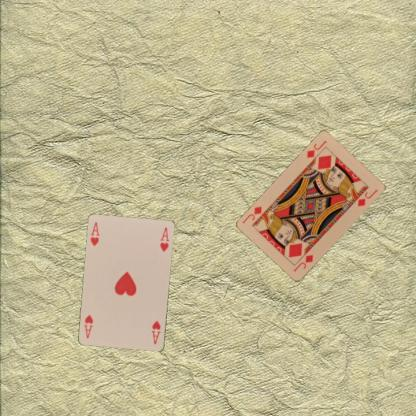Ah: (149, 318, 162, 346), (88, 220, 101, 247)
Jd: (304, 138, 328, 160), (291, 252, 315, 273)
